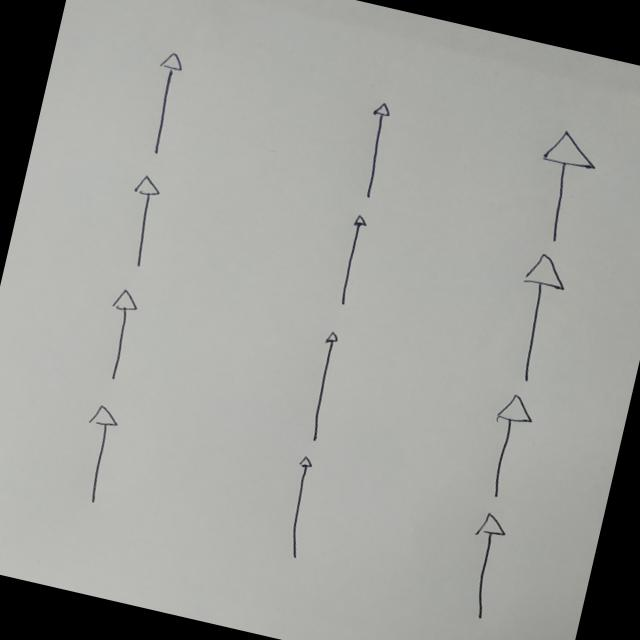arrow_line_up: (498, 250, 570, 386), (524, 125, 602, 247), (477, 391, 538, 504), (454, 509, 514, 622), (68, 401, 124, 506), (138, 48, 187, 158), (300, 330, 346, 444), (276, 454, 324, 561), (93, 286, 142, 384), (115, 172, 163, 270), (352, 101, 394, 202), (333, 212, 368, 308)
